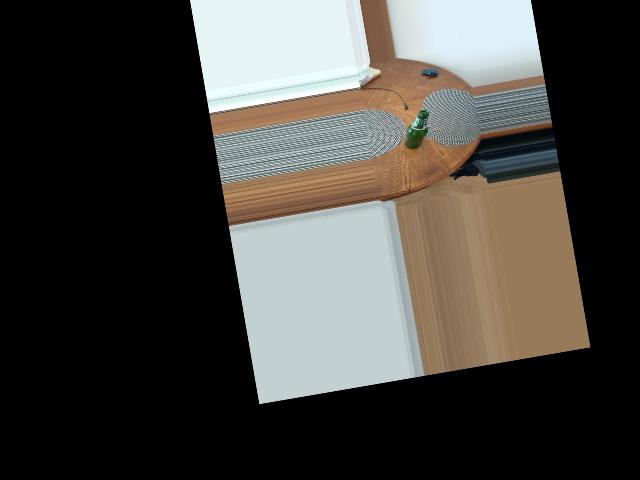beer: (398, 109, 434, 151)
